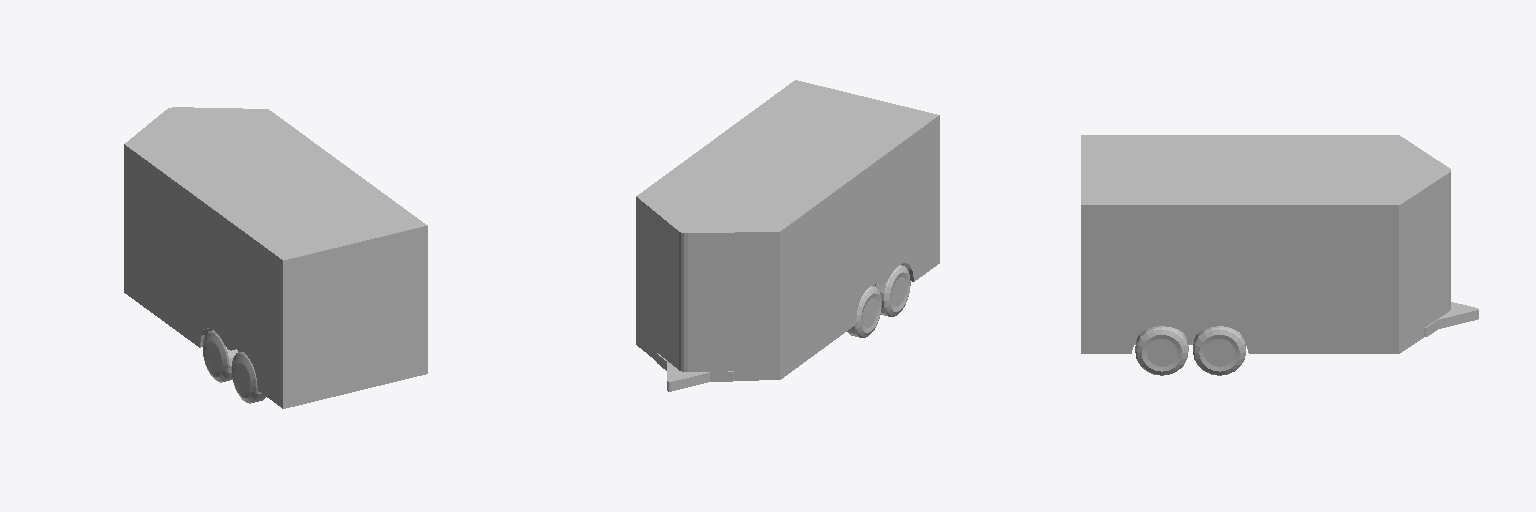
File: Trailer_15ft.obj
3 renders of one model, left to right at view 1: azimuth 30°, elevation 25°; view 2: azimuth 150°, elevation 25°; view 3: azimuth 270°, elevation 25°, orthographic.
Parts seen in each view (by area): view 1: trailer_15ft; view 2: trailer_15ft; view 3: trailer_15ft.
Part boxes in pixels (x1,y1,x2,y2): trailer_15ft: (124, 107, 427, 408); trailer_15ft: (636, 80, 939, 391); trailer_15ft: (1081, 135, 1478, 375).
Size of the model in its own units: 203 by 227 by 478.